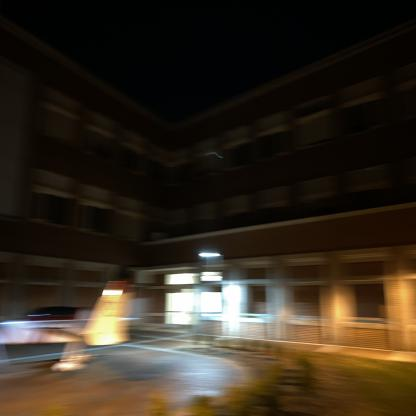eb2: (7, 41, 415, 340)
